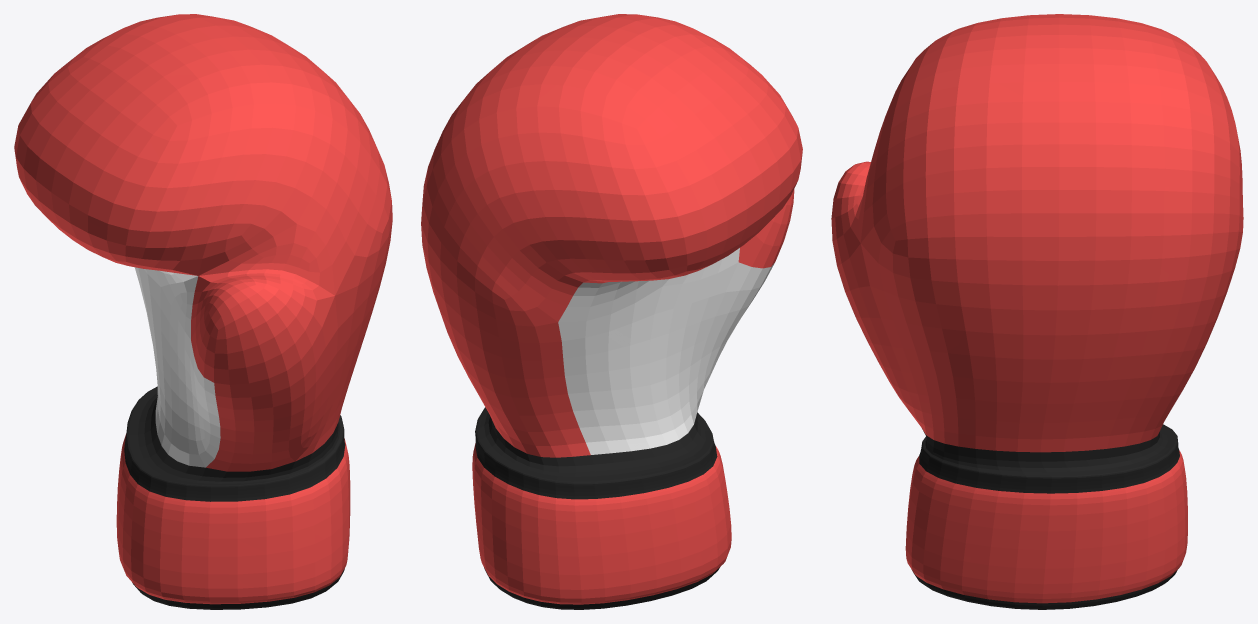
File: gloveRight.gltf
The picture shows the model from 3 angles, left to right: view 1: azimuth 30°, elevation 25°; view 2: azimuth 150°, elevation 25°; view 3: azimuth 270°, elevation 25°; orthographic projection. The views are drawn at different scales.
Parts seen in each view (by area): view 1: Boxing Glove.002; view 2: Boxing Glove.002; view 3: Boxing Glove.002.
Part boxes in pixels (x1,y1,x2,y2): Boxing Glove.002: (14,14,392,609); Boxing Glove.002: (421,14,802,609); Boxing Glove.002: (831,14,1243,609).
Size of the model in its own units: 0.4645 by 0.7762 by 0.5404.
1 material, 1 textured.
